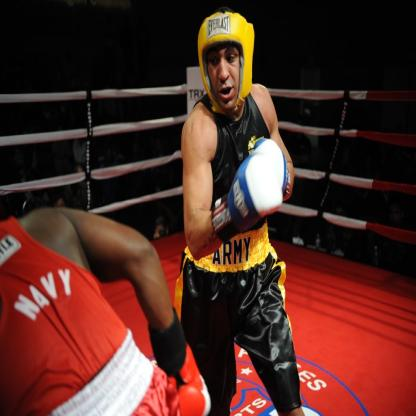Helmet: (198, 12, 254, 120)
